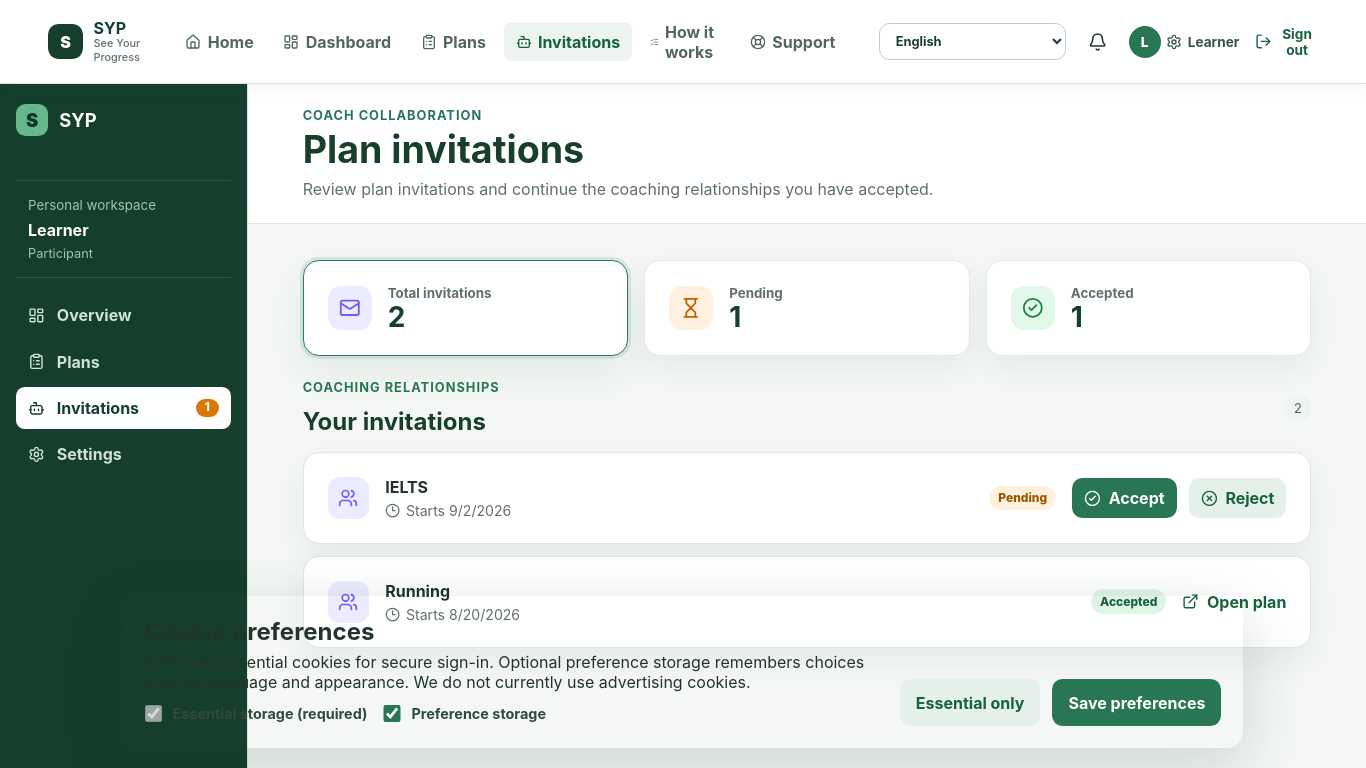
it: shows and clears the participant pending invitation badge
This screenshot has width=1366, height=768.
Expected: the link "Invitations 1" is shown, [16, 387, 231, 429]
Click the button "Accept": (1124, 498) [1072, 478, 1177, 518]
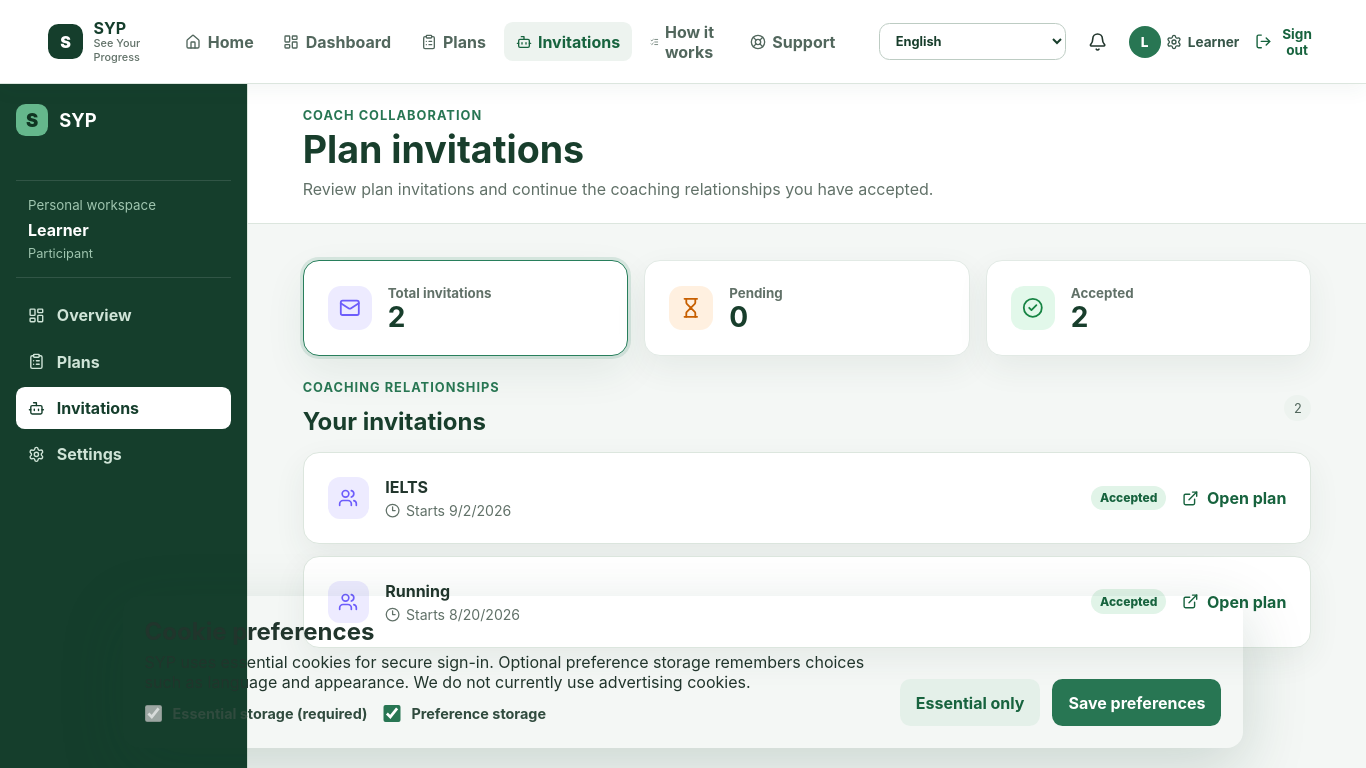
Expected: the link "Invitations 1" is gone
